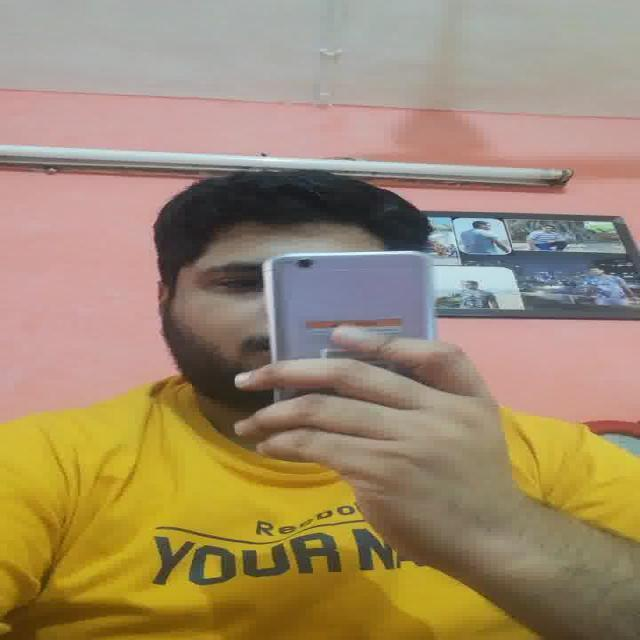Phone: (264, 252, 436, 354)
